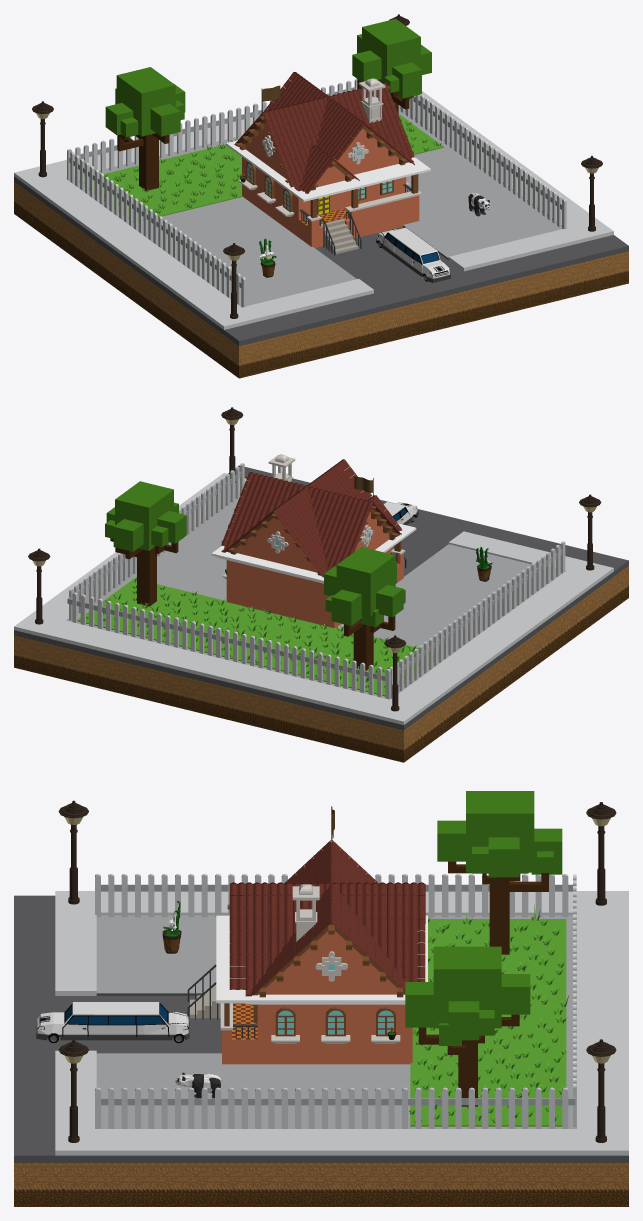
3 views of the same model, one above another, from view 1: azimuth 30°, elevation 25°; view 2: azimuth 150°, elevation 25°; view 3: azimuth 270°, elevation 25° (orthographic). The views are drawn at different scales.
Parts seen in each view (by area): view 1: Cube.004, Cube.1141, VEHICLES_LIMOUSINE; view 2: Cube.004, Cube.1141, VEHICLES_LIMOUSINE; view 3: Cube.004, Cube.1141, VEHICLES_LIMOUSINE, ANIMAL_PANDA, OBJRANDOM_MONJA BLANCA.
Part boxes in pixels (x1,y1,x2,y2): Cube.004: (14,14,628,378); Cube.1141: (226,72,430,255); VEHICLES_LIMOUSINE: (375,227,451,282); Cube.004: (14,407,628,762); Cube.1141: (211,454,416,627); VEHICLES_LIMOUSINE: (383,502,418,525); Cube.004: (14,791,628,1206); Cube.1141: (187,806,427,1064); VEHICLES_LIMOUSINE: (36,1002,189,1043); ANIMAL_PANDA: (175,1072,221,1098); OBJRANDOM_MONJA BLANCA: (162,901,181,953).
Bounding box in the file's own units: 4000 × 1778 × 4000.
40 materials, 4 textured.
